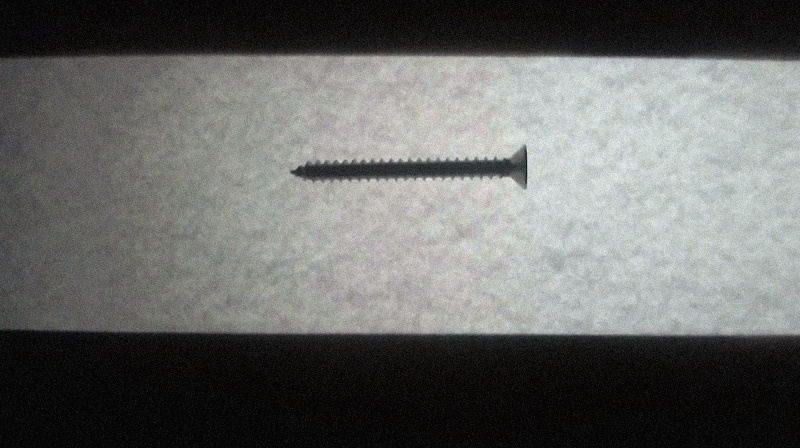S002: (287, 140, 530, 191)
